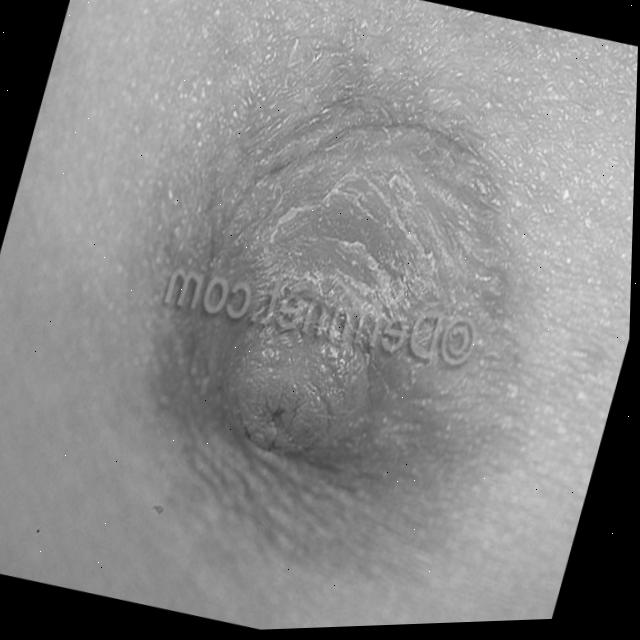Eczema: (272, 257, 392, 357)
